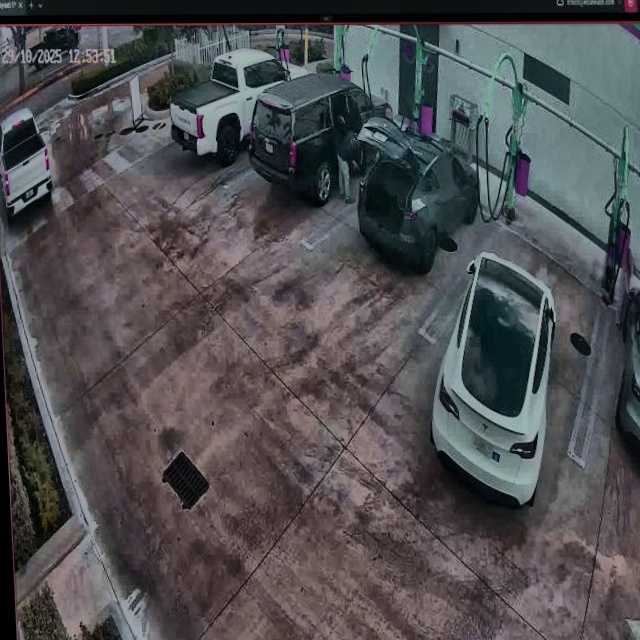Car: (420, 250, 565, 510), (354, 114, 485, 272), (246, 74, 395, 206), (170, 57, 319, 168)
